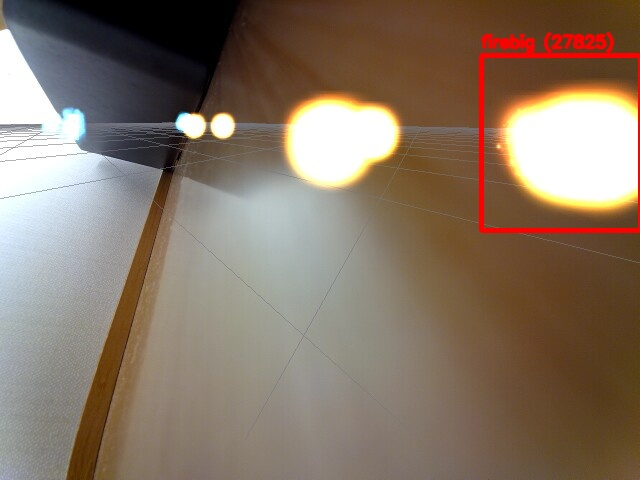firebig: (481, 55, 640, 230)
